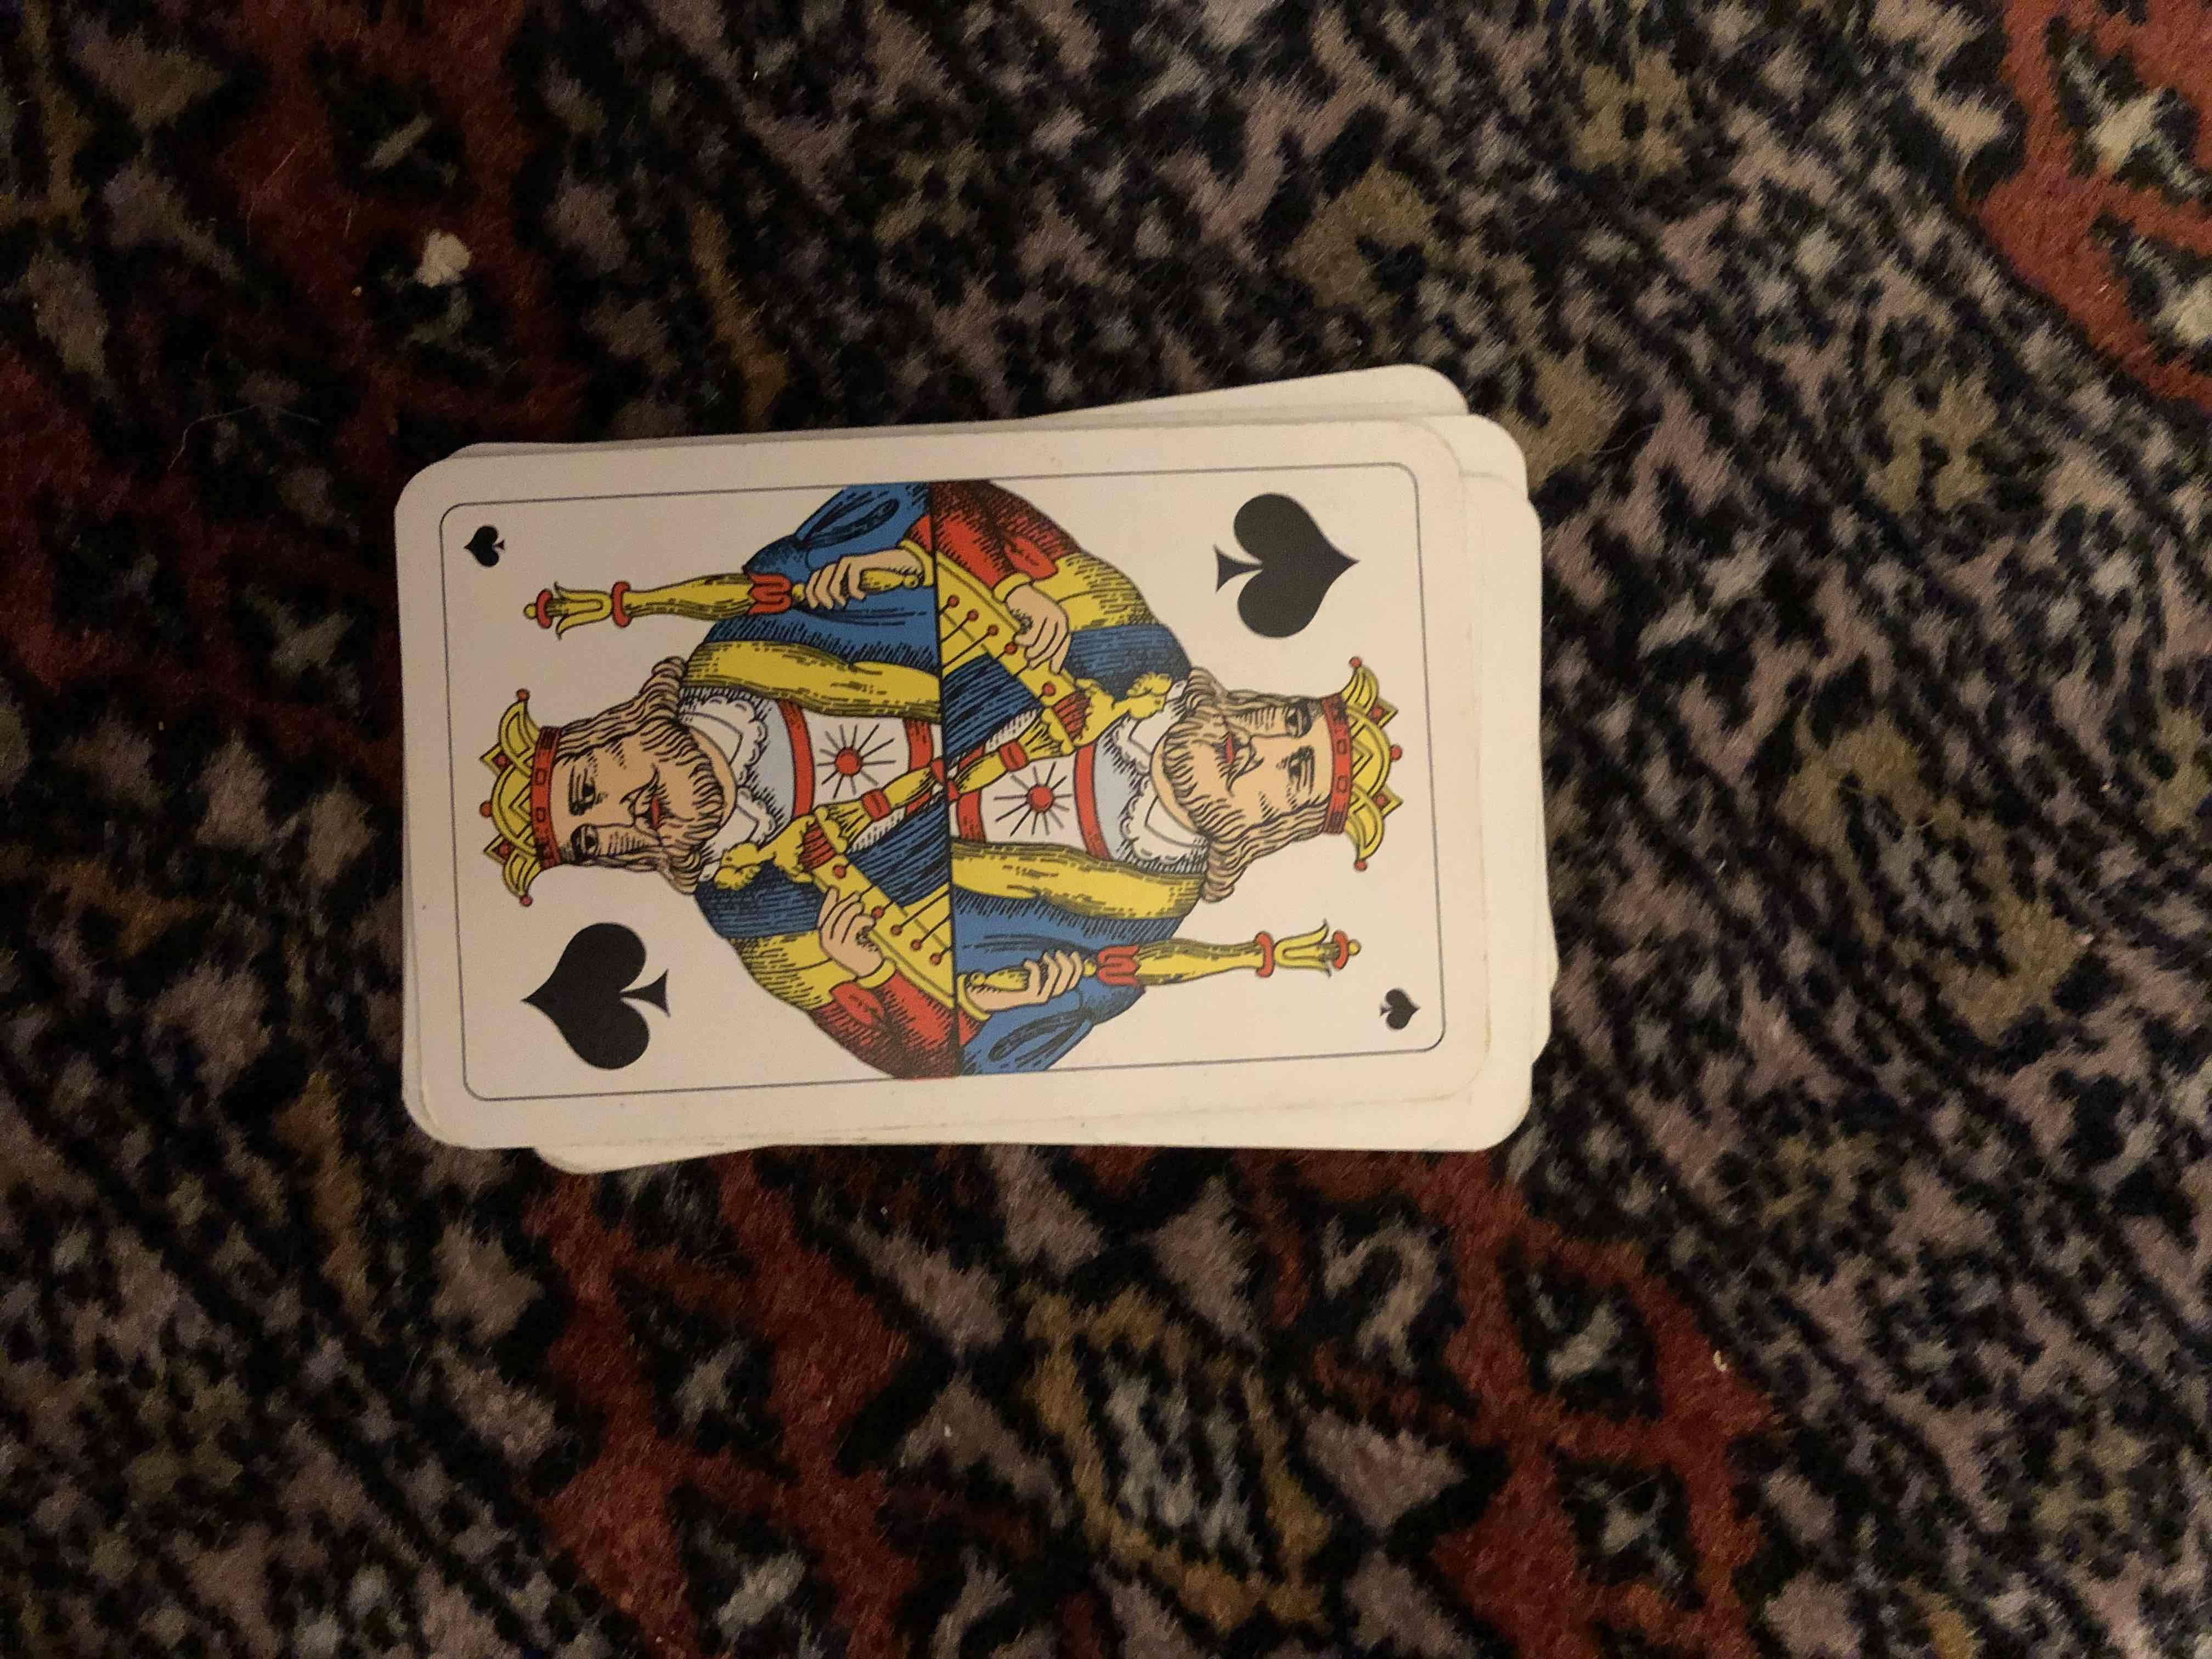spadesKing: (418, 432, 1510, 1112)
